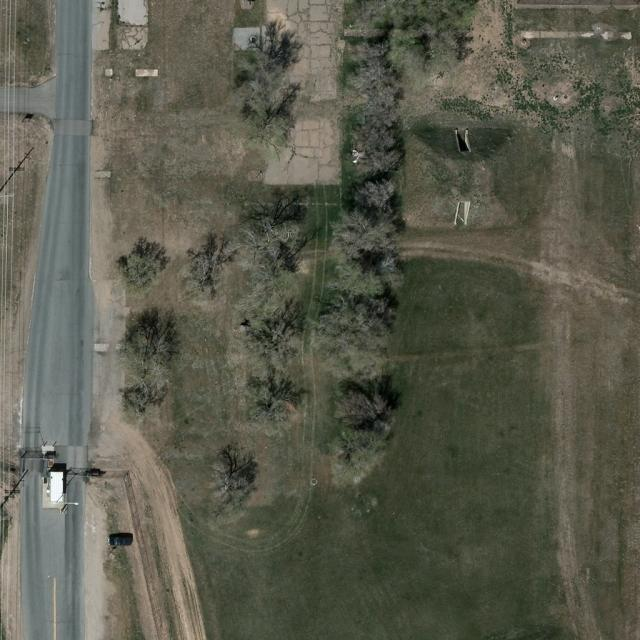vehicle: (108, 536, 132, 546)
